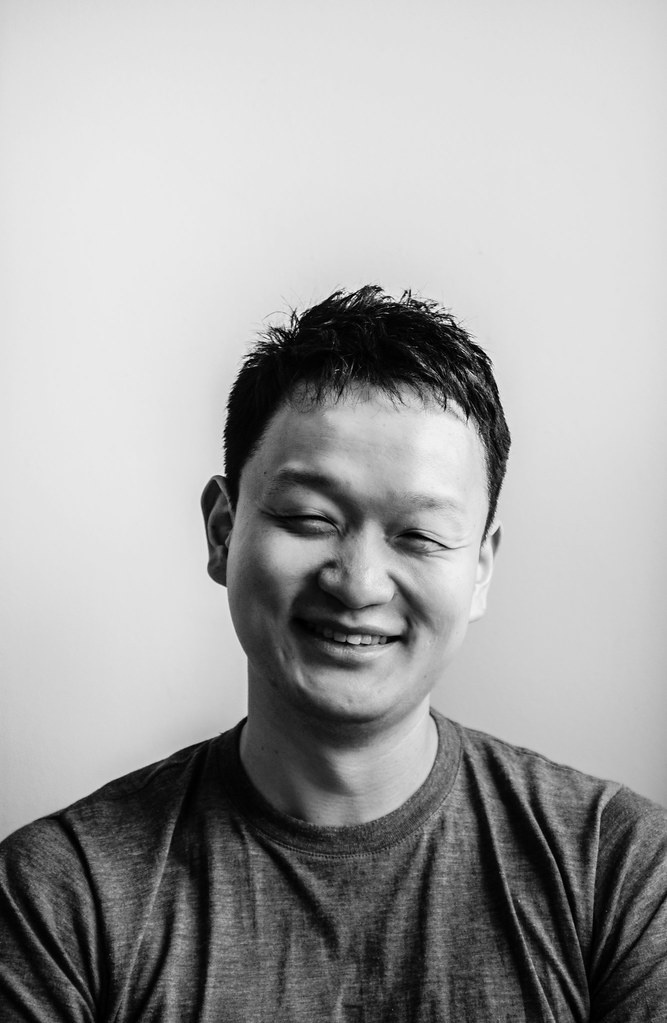without_mask: (206, 382, 489, 720)
